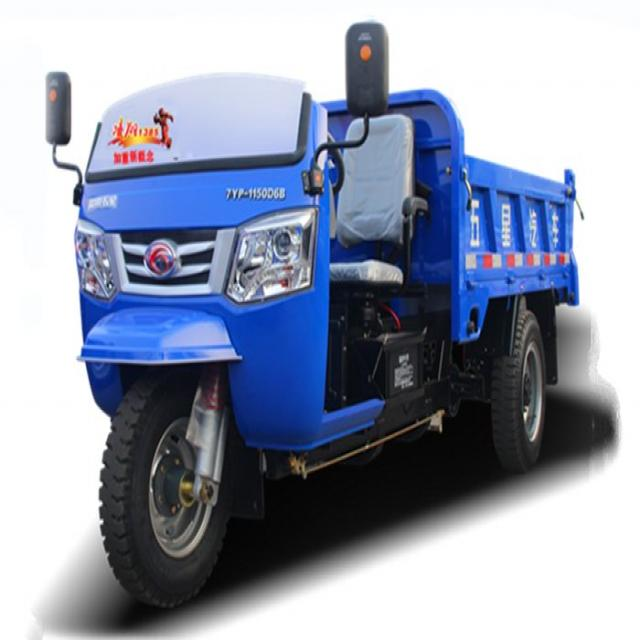tricycle: (43, 18, 581, 607)
